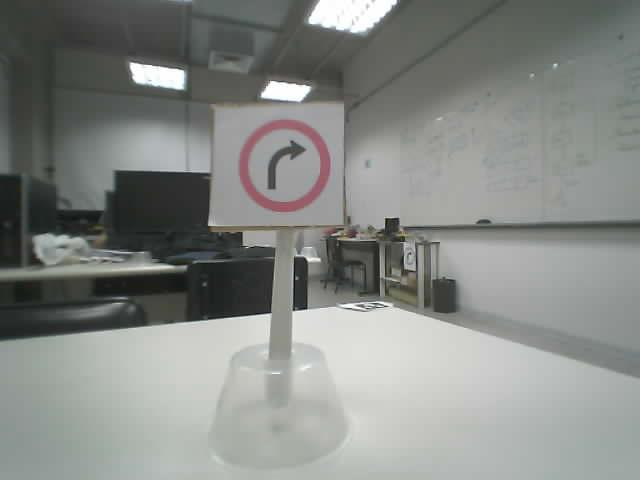R-25b_direita: (237, 117, 332, 213)
